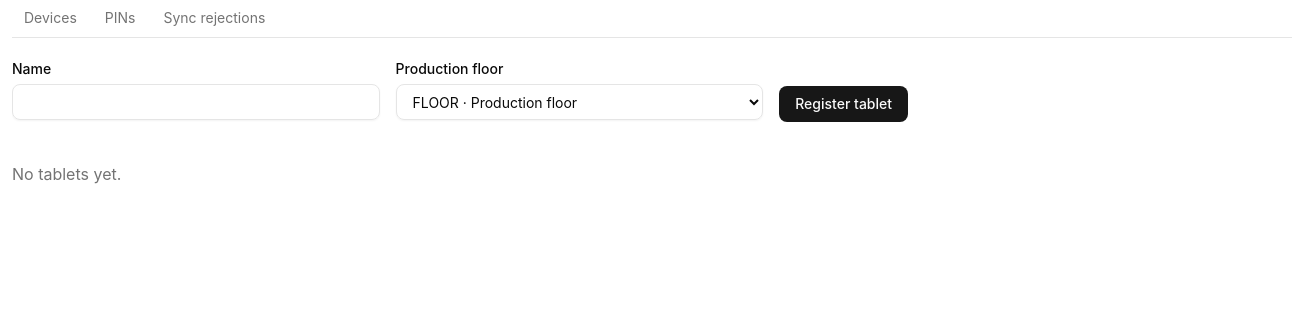
Test case: devices › registers a tablet and shows its pairing code once
Type "Hall A tablet" into the field labelled "Name" at (196, 102), box x1=12 y1=84 x2=380 y2=120
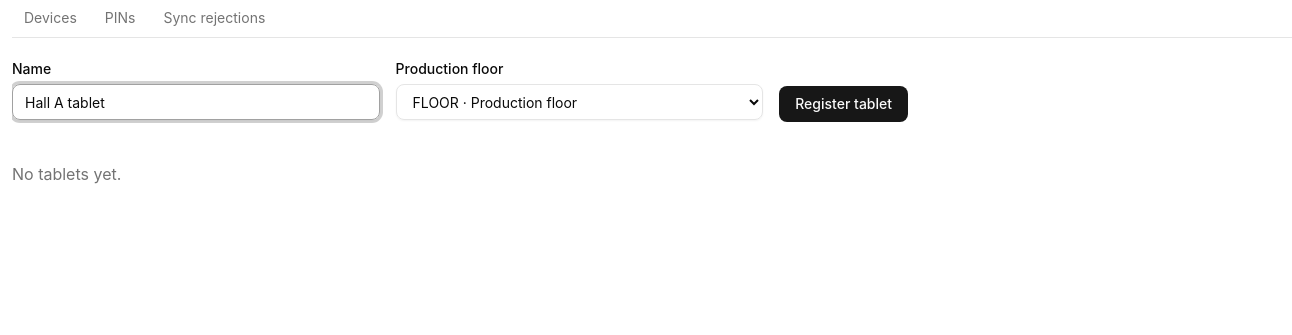
Click the button "Register tablet" at (844, 104), box x1=779 y1=86 x2=908 y2=122
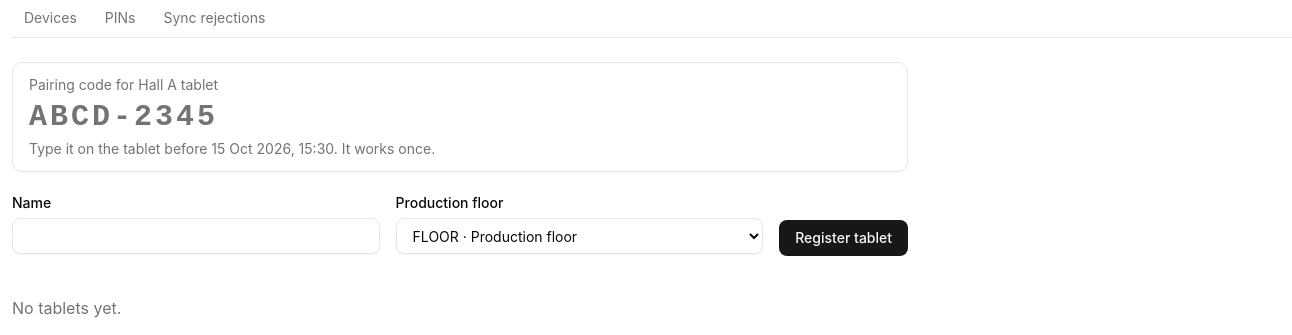
expect the text "ABCD-2345" is shown: met, box x1=29 y1=99 x2=218 y2=135
